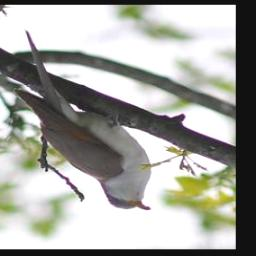Cuckoo: (11, 27, 153, 211)
